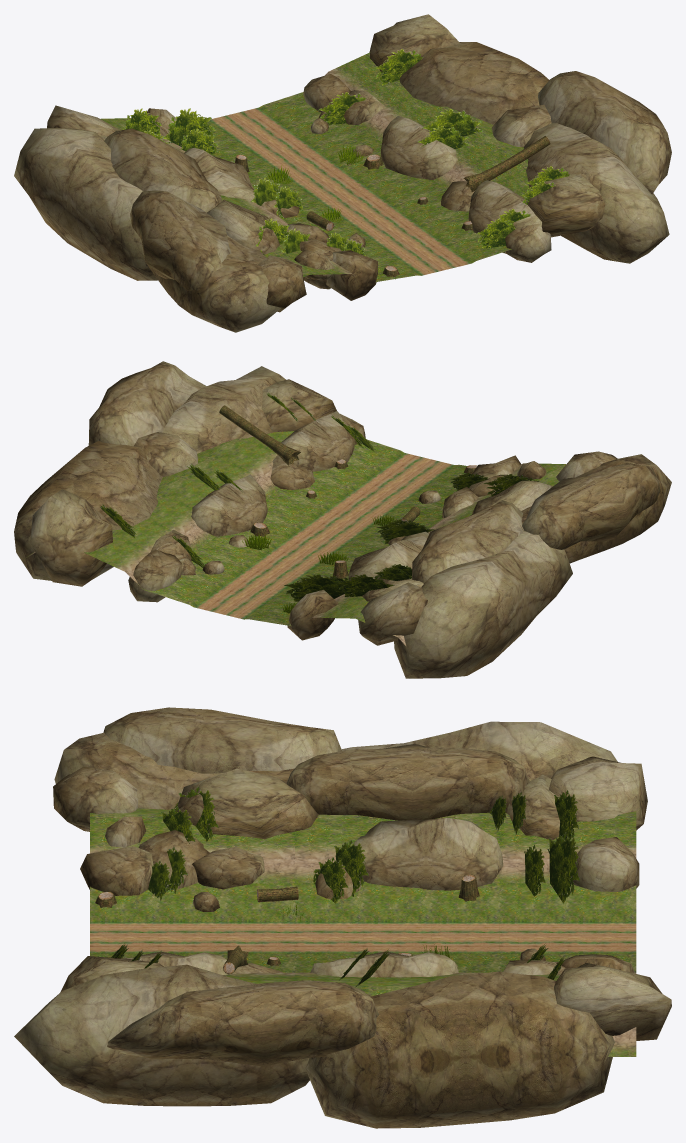
File: BikeRoad09.FBX
3 renders of one model, top to bottom at view 1: azimuth 30°, elevation 25°; view 2: azimuth 150°, elevation 25°; view 3: azimuth 270°, elevation 25°, orthographic. The views are drawn at different scales.
Parts seen in each view (by area): view 1: Rock (×23), Ground, GrassPlane (×10), Stump; view 2: Rock (×22), Ground, GrassPlane (×3), Stump; view 3: Rock (×23), Ground, GrassPlane (×8).
Part boxes in pixels (x1,y1,x2,y2): Rock (×23): (14, 14, 671, 332); Ground: (101, 52, 529, 282); GrassPlane (×10): (123, 49, 516, 252); Stump: (463, 136, 550, 192); Rock (×22): (14, 361, 671, 678); Ground: (22, 431, 565, 645); GrassPlane (×3): (284, 522, 434, 601); Stump: (219, 405, 300, 465); Rock (×23): (14, 707, 671, 1128); Ground: (90, 808, 636, 1056); GrassPlane (×8): (148, 786, 579, 903).
Bounding box in the file's own units: 5535 × 1200 × 4818.
